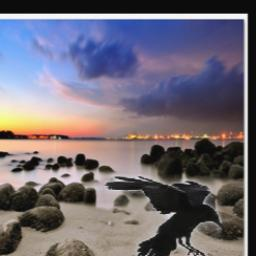Crow: (106, 175, 223, 256)
